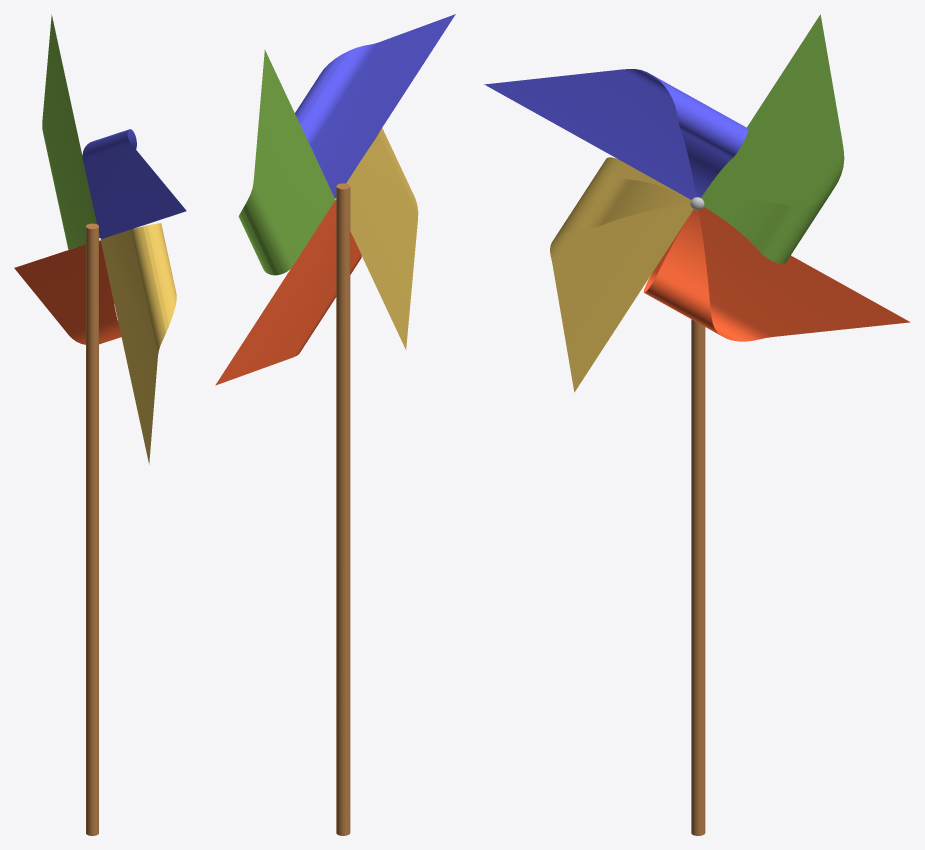
File: koyuncak.dae
The picture shows the model from 3 angles, left to right: view 1: azimuth 30°, elevation 25°; view 2: azimuth 150°, elevation 25°; view 3: azimuth 270°, elevation 25°; orthographic projection. The views are drawn at different scales.
Parts seen in each view (by area): view 1: instance_4, group_3, instance_1, instance_2, instance_3; view 2: instance_1, instance_2, group_3, instance_4, instance_3; view 3: instance_2, instance_3, instance_4, instance_1, group_3.
Boxes of the visible parts, box(x1,y1,x2,y2) form: instance_4: box(101, 223, 176, 464); group_3: box(86, 223, 98, 835); instance_1: box(82, 129, 186, 239); instance_2: box(42, 14, 99, 249); instance_3: box(14, 241, 121, 344); instance_1: box(295, 14, 455, 198); instance_2: box(238, 49, 334, 275); group_3: box(336, 183, 350, 835); instance_4: box(346, 128, 418, 349); instance_3: box(215, 201, 361, 385); instance_2: box(701, 14, 844, 263); instance_3: box(643, 207, 910, 341); instance_4: box(550, 157, 693, 392); instance_1: box(484, 69, 748, 199); group_3: box(691, 319, 705, 835).
Size of the model in its own units: 0.6726 by 4.81 by 10.28.
